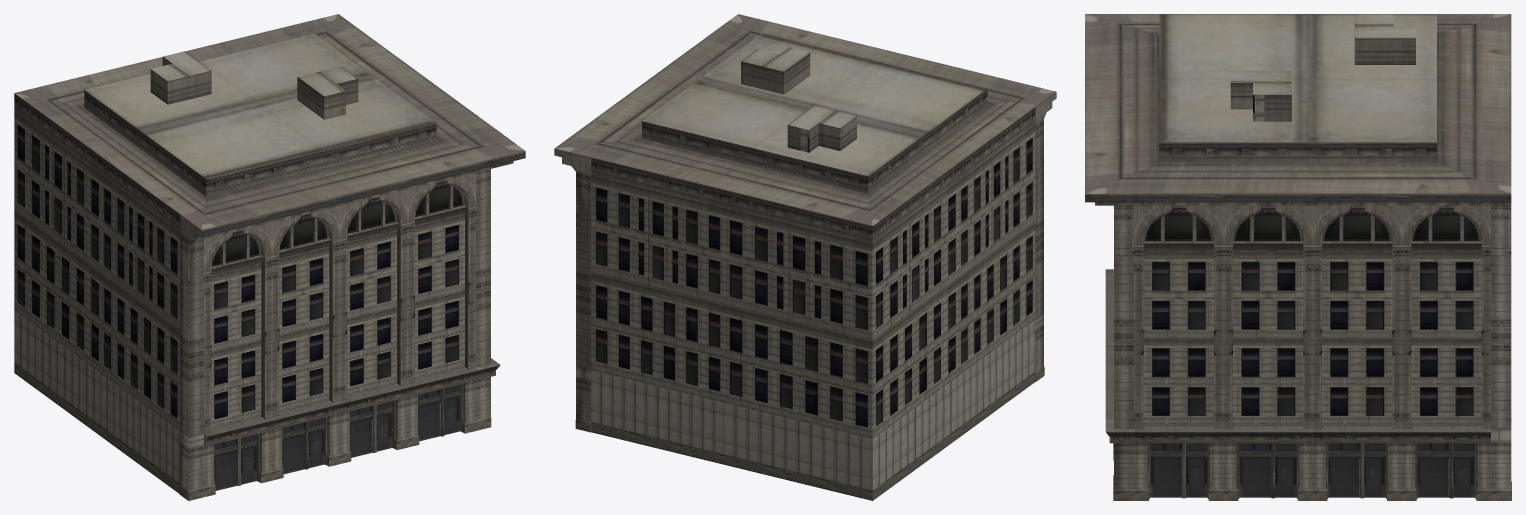
Rendered from downtown_residential_2.glb.
The picture shows the model from 3 angles, left to right: view 1: azimuth 30°, elevation 25°; view 2: azimuth 150°, elevation 25°; view 3: azimuth 270°, elevation 25°; orthographic projection. The views are drawn at different scales.
Visible parts, largest first — view 1: Downtown_Residential_2_Downtown_Facade_FLR_3_0, Downtown_Residential_2_Downtown_Modern_Firstfloor_FLR_1_0; view 2: Downtown_Residential_2_Downtown_Facade_FLR_3_0; view 3: Downtown_Residential_2_Downtown_Facade_FLR_3_0, Downtown_Residential_2_Downtown_Modern_Firstfloor_FLR_1_0.
Boxes of the visible parts, x1,y1,x2,y2 form: Downtown_Residential_2_Downtown_Facade_FLR_3_0: [14, 14, 525, 500]; Downtown_Residential_2_Downtown_Modern_Firstfloor_FLR_1_0: [214, 384, 460, 490]; Downtown_Residential_2_Downtown_Facade_FLR_3_0: [554, 14, 1056, 500]; Downtown_Residential_2_Downtown_Facade_FLR_3_0: [1085, 14, 1511, 500]; Downtown_Residential_2_Downtown_Modern_Firstfloor_FLR_1_0: [1150, 443, 1475, 497].
Size of the model in its own units: 31.62 by 29.88 by 31.62.
Materials: 2 (2 with a texture image).
